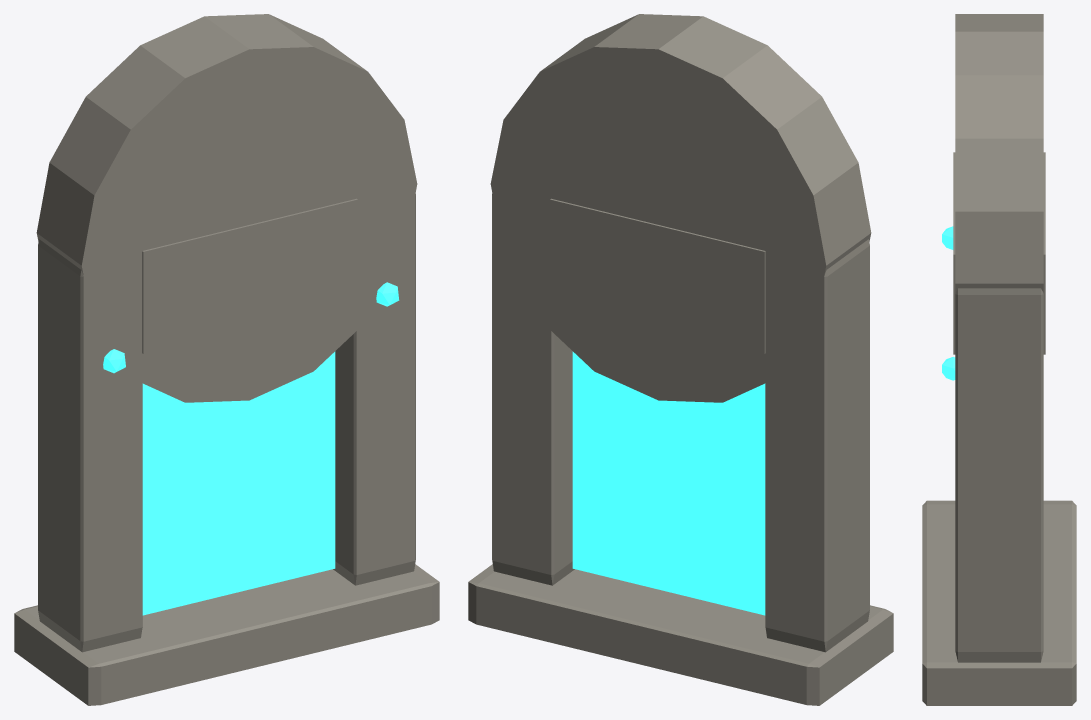
File: stone-portal-lod0.glb
3 renders of one model, left to right at view 1: azimuth 30°, elevation 25°; view 2: azimuth 150°, elevation 25°; view 3: azimuth 270°, elevation 25°, orthographic. The views are drawn at different scales.
Visible parts, largest first — view 1: stone-portal; view 2: stone-portal; view 3: stone-portal.
Part boxes in pixels (<box>): stone-portal: <box>14,14,439,705</box>; stone-portal: <box>468,14,893,705</box>; stone-portal: <box>922,14,1076,705</box>.
Bounding box in the file's own units: 1.8 × 2.96 × 0.7.
